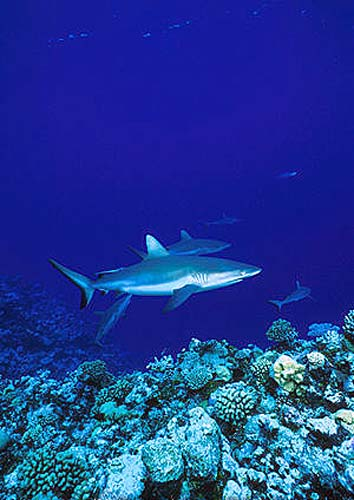Carcharhinus_amblyrhynchos: (46, 234, 267, 315)
